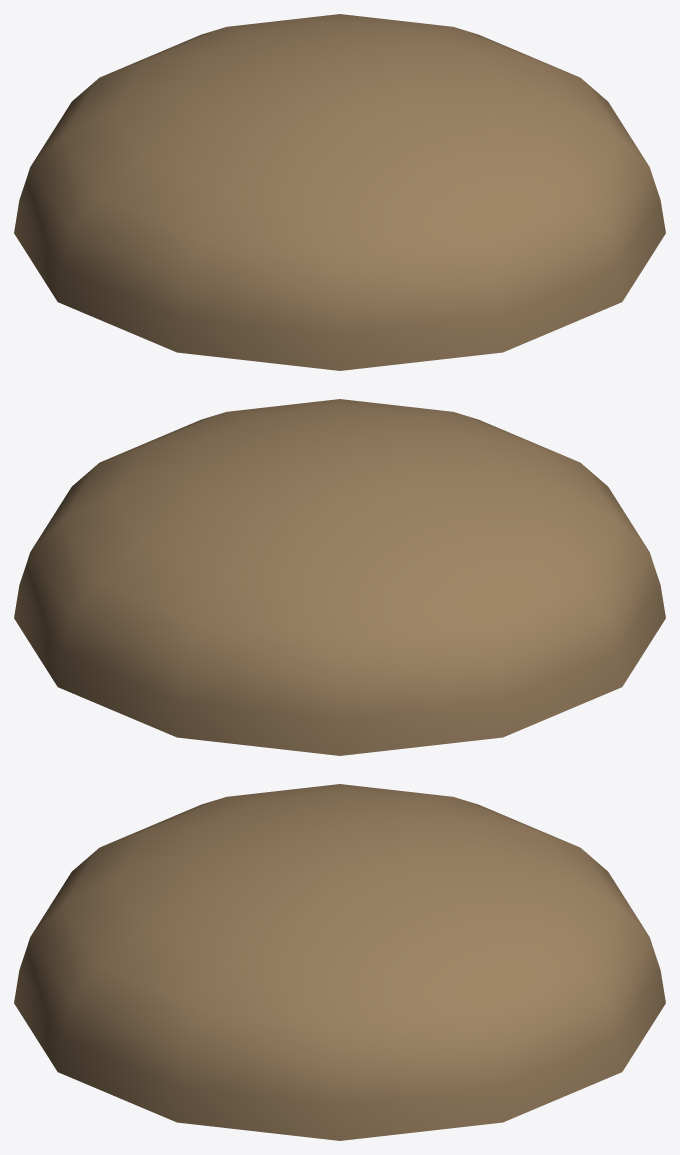
The model's file is SM_BunTop.fbx.
The picture shows the model from 3 angles, top to bottom: view 1: azimuth 30°, elevation 25°; view 2: azimuth 150°, elevation 25°; view 3: azimuth 270°, elevation 25°; orthographic projection.
Visible parts, largest first — view 1: BunTop; view 2: BunTop; view 3: BunTop.
Boxes of the visible parts, box(x1,y1,x2,y2) form: BunTop: box(14, 14, 665, 370); BunTop: box(14, 399, 665, 755); BunTop: box(14, 784, 665, 1140).
Bounding box in the file's own units: 20.25 × 5.51 × 20.25.
